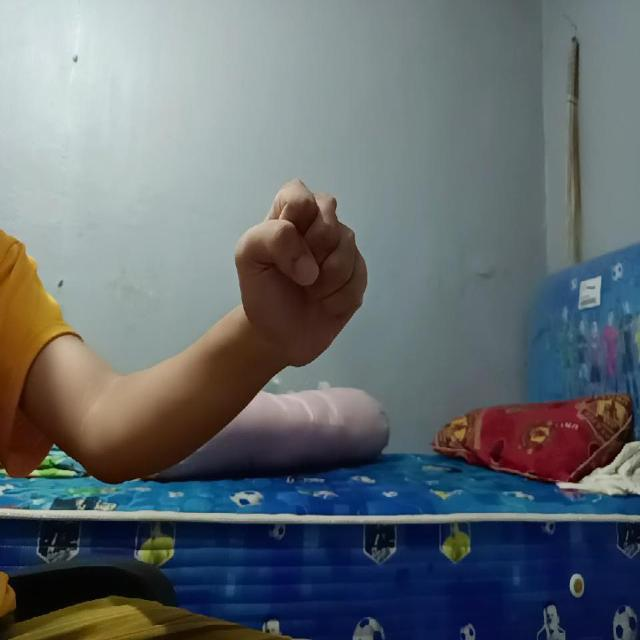fist: (232, 176, 372, 358)
